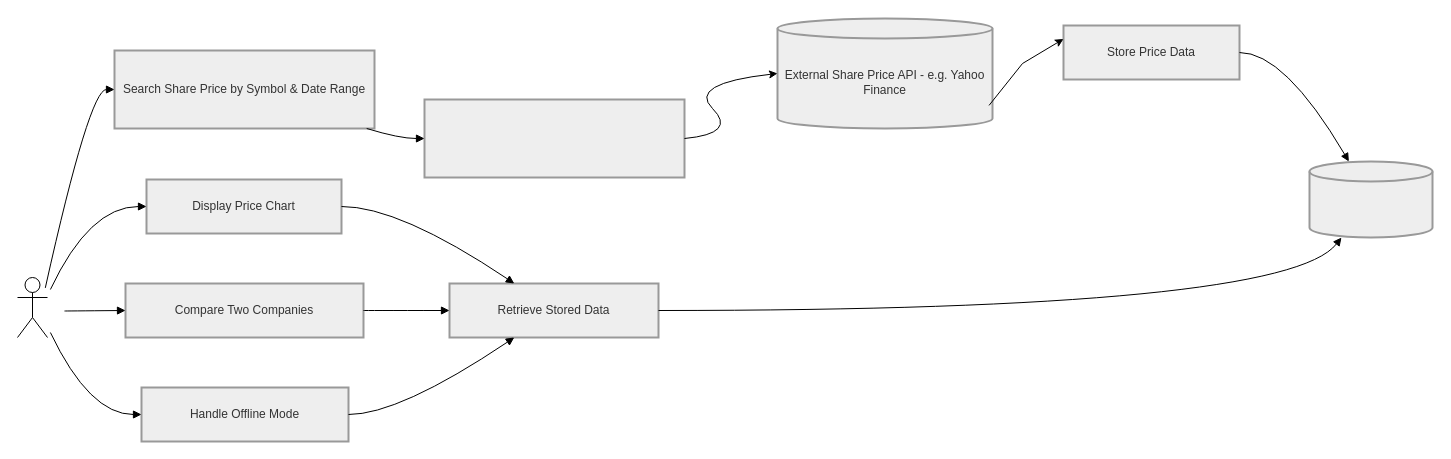
This 1451x459 diagram has some shape labels left out. Each missing label, with the centre of its shape:
"Local Database" goes at pixel 1370 199.
"User" goes at pixel 32 307.
"Validate Date Range - max 2 years" goes at pixel 554 138.
